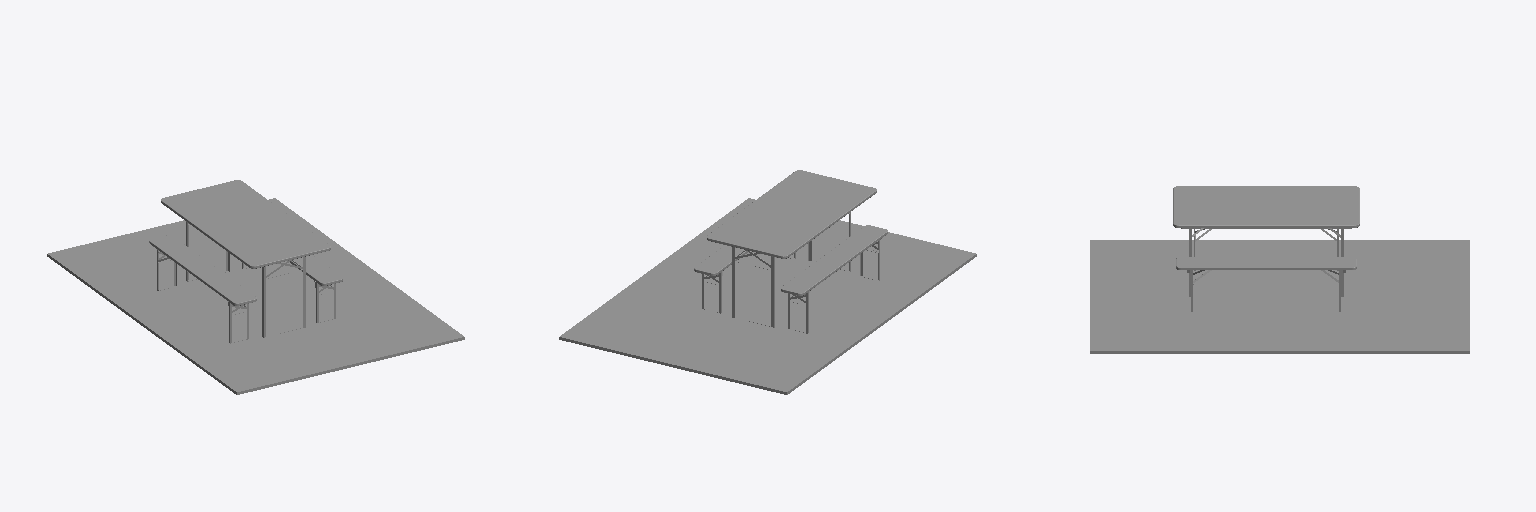
Rendered from biertisch3_big.obj.
The picture shows the model from 3 angles: view 1: azimuth 30°, elevation 25°; view 2: azimuth 150°, elevation 25°; view 3: azimuth 270°, elevation 25°; orthographic projection.
Size of the model in its own units: 58.97 by 20.81 by 85.